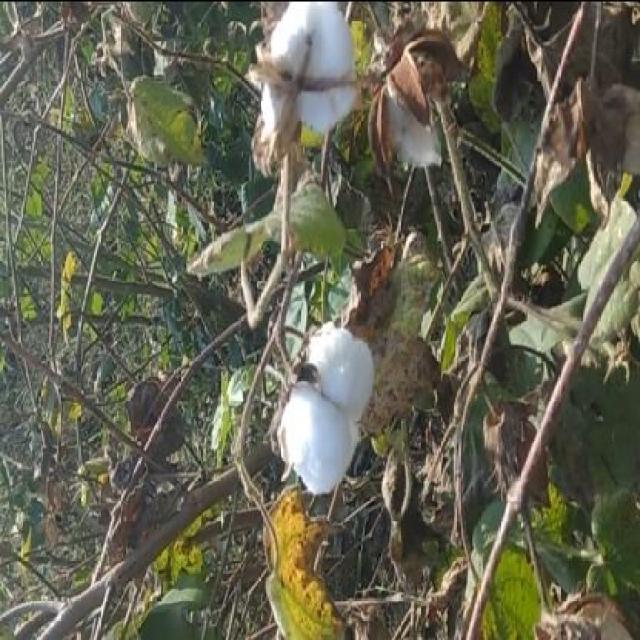cotton_ready: (265, 273, 401, 541), (249, 0, 396, 188)
